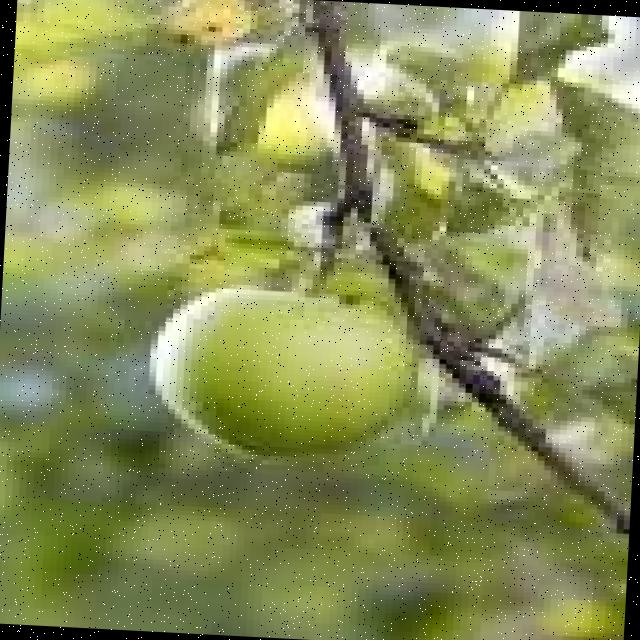Unripe: (142, 278, 424, 466)
